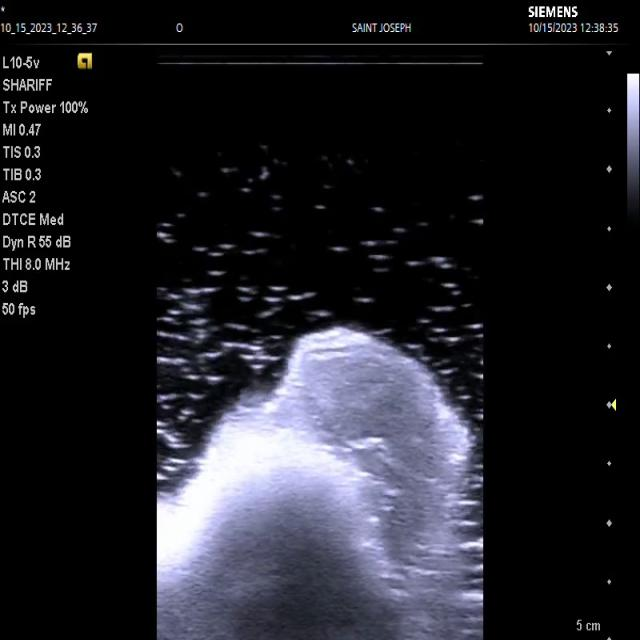tissue: (157, 325, 481, 640)
